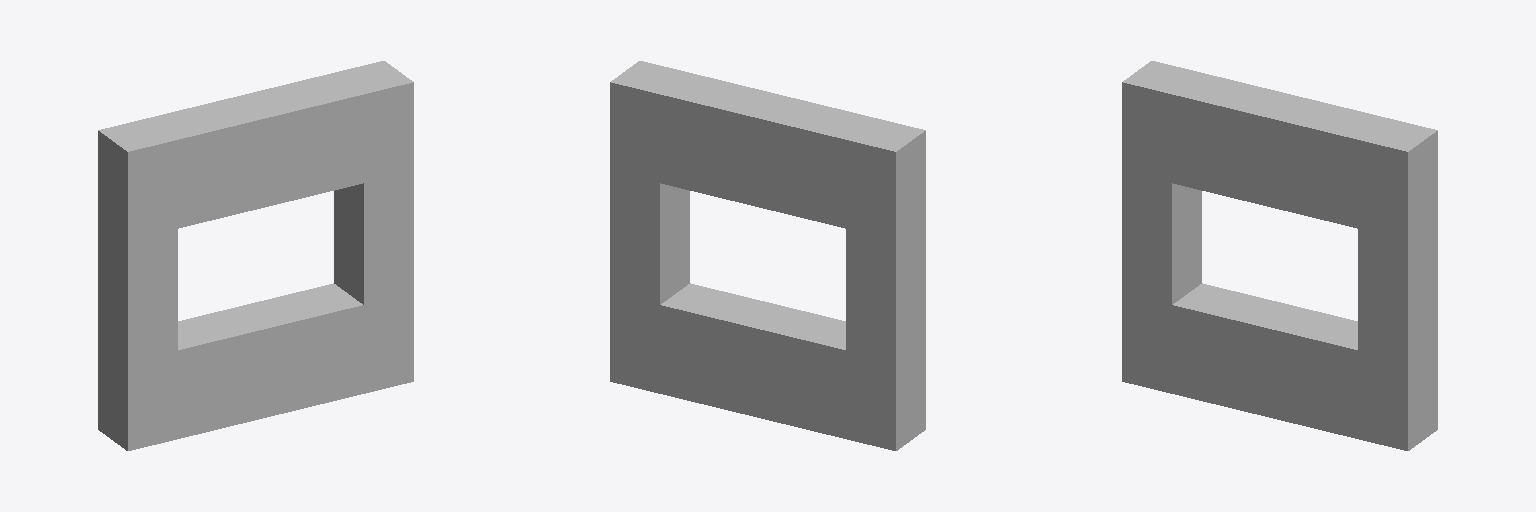
Rendered from factory_rectangular_hole_32mm_subdiv_3x.obj.
3 renders of one model, left to right at view 1: azimuth 30°, elevation 25°; view 2: azimuth 150°, elevation 25°; view 3: azimuth 330°, elevation 25°, orthographic.
Size of the model in its own units: 0.05 by 0.05 by 0.009.